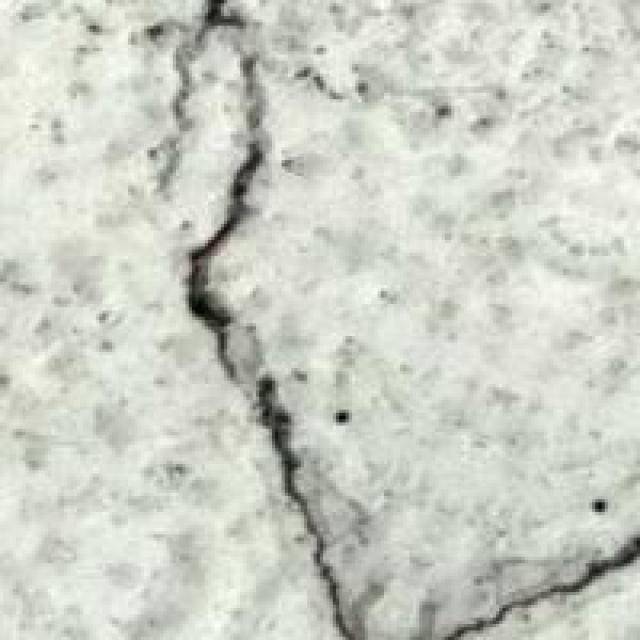crack: (134, 0, 637, 634)
